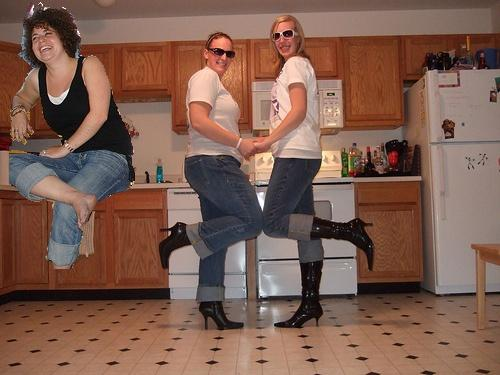tampered: (10, 3, 135, 269)
